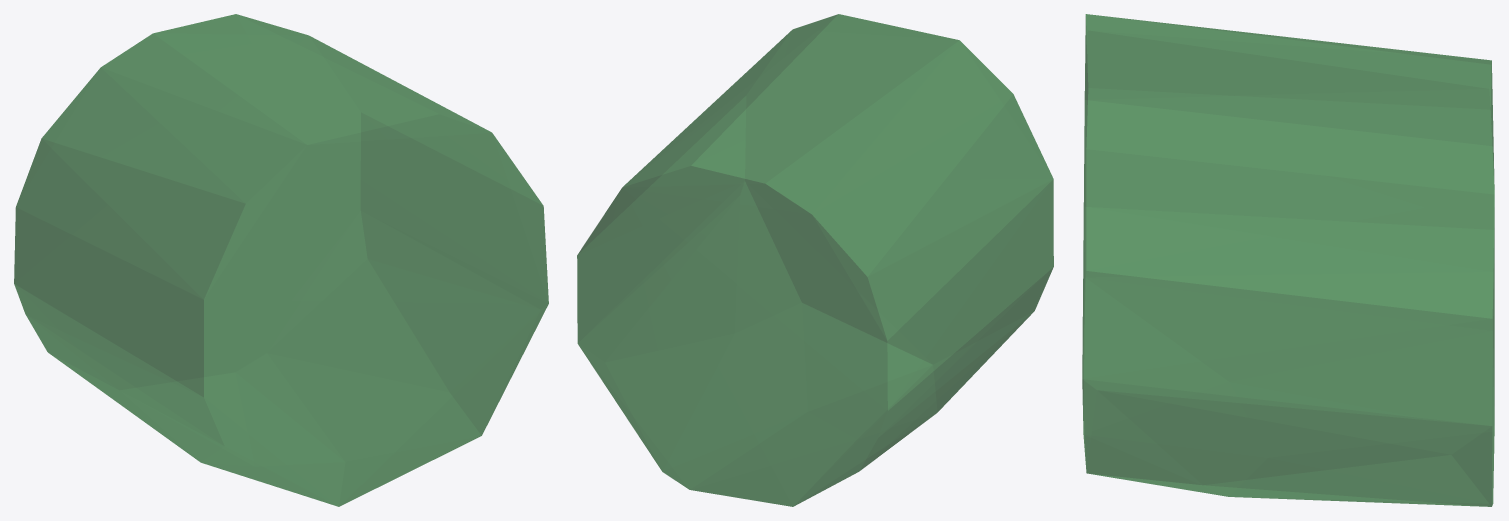
The picture shows the model from 3 angles, left to right: view 1: azimuth 30°, elevation 25°; view 2: azimuth 150°, elevation 25°; view 3: azimuth 270°, elevation 25°; orthographic projection. The views are drawn at different scales.
Parts seen in each view (by area): view 1: Shape_IndexedFaceSet.003_Shape_IndexedFaceSet.10750; view 2: Shape_IndexedFaceSet.003_Shape_IndexedFaceSet.10750; view 3: Shape_IndexedFaceSet.003_Shape_IndexedFaceSet.10750.
Part boxes in pixels (left/top/right/bottom): Shape_IndexedFaceSet.003_Shape_IndexedFaceSet.10750: left=14, top=14, right=548, bottom=506; Shape_IndexedFaceSet.003_Shape_IndexedFaceSet.10750: left=577, top=14, right=1053, bottom=506; Shape_IndexedFaceSet.003_Shape_IndexedFaceSet.10750: left=1082, top=14, right=1494, bottom=506.
Size of the model in its own units: 0.1209 by 0.1304 by 0.1136.
